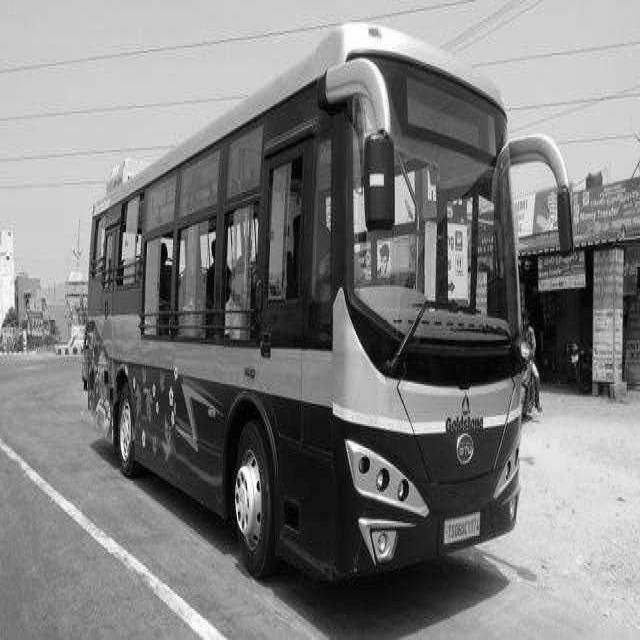Bus: (82, 23, 572, 577)
